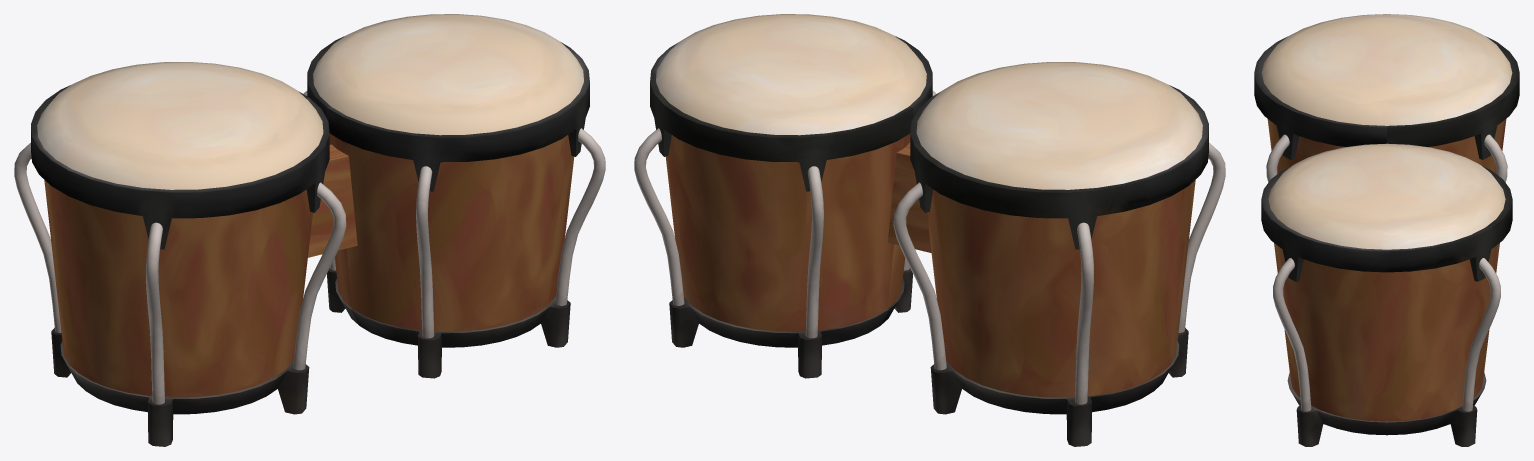
File: Bongos.fbx
The picture shows the model from 3 angles, left to right: view 1: azimuth 30°, elevation 25°; view 2: azimuth 150°, elevation 25°; view 3: azimuth 270°, elevation 25°; orthographic projection. The views are drawn at different scales.
Parts seen in each view (by area): view 1: BezierCurve.000, BezierCurve.003, Cube; view 2: BezierCurve.000, BezierCurve.003, Cube; view 3: BezierCurve.003, BezierCurve.000.
Boxes of the visible parts, left/top/right/bottom form: BezierCurve.000: left=14, top=62, right=346, bottom=446; BezierCurve.003: left=303, top=14, right=605, bottom=378; Cube: left=308, top=144, right=357, bottom=257; BezierCurve.000: left=893, top=62, right=1225, bottom=446; BezierCurve.003: left=634, top=14, right=936, bottom=378; Cube: left=887, top=143, right=931, bottom=252; BezierCurve.003: left=1261, top=143, right=1512, bottom=446; BezierCurve.000: left=1254, top=14, right=1519, bottom=182.
Bounding box in the file's own units: 405 × 214 × 206.
Materials: 2 (2 with a texture image).
